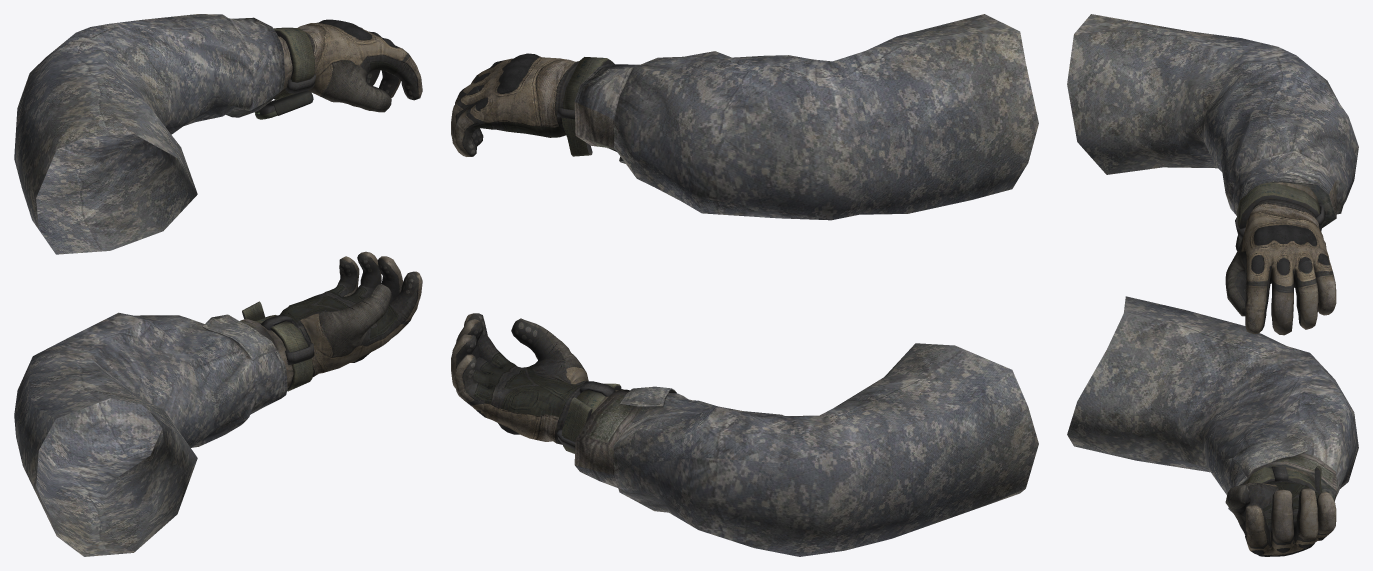
The model's file is viewmodel_base_viewhands_LOD0.obj.
The picture shows the model from 3 angles, left to right: view 1: azimuth 30°, elevation 25°; view 2: azimuth 150°, elevation 25°; view 3: azimuth 270°, elevation 25°; orthographic projection. The views are drawn at different scales.
Visible parts, largest first — view 1: mtl_us_army_gps_sleeve, mtl_us_army_glove, mtl_us_army_metal_gps_sleeve; view 2: mtl_us_army_gps_sleeve, mtl_us_army_glove; view 3: mtl_us_army_gps_sleeve, mtl_us_army_glove.
Part boxes in pixels (x1=…): mtl_us_army_gps_sleeve: x1=14, y1=14, x2=316, y2=556; mtl_us_army_glove: x1=262, y1=19, x2=422, y2=388; mtl_us_army_metal_gps_sleeve: x1=254, y1=90, x2=313, y2=119; mtl_us_army_gps_sleeve: x1=557, y1=14, x2=1038, y2=556; mtl_us_army_glove: x1=451, y1=53, x2=625, y2=444; mtl_us_army_gps_sleeve: x1=1067, y1=14, x2=1358, y2=512; mtl_us_army_glove: x1=1225, y1=182, x2=1336, y2=556.
Bounding box in the file's own units: 68.69 × 63.5 × 38.94.
4 materials, 4 textured.
